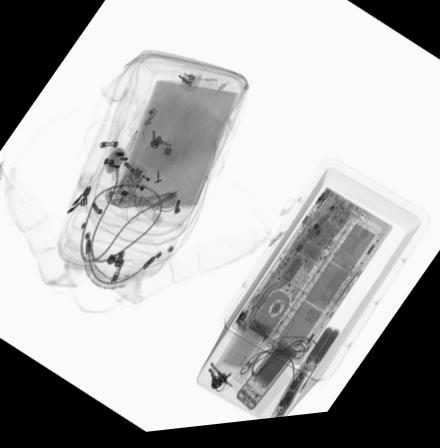Powerbank: (297, 333, 341, 381)
